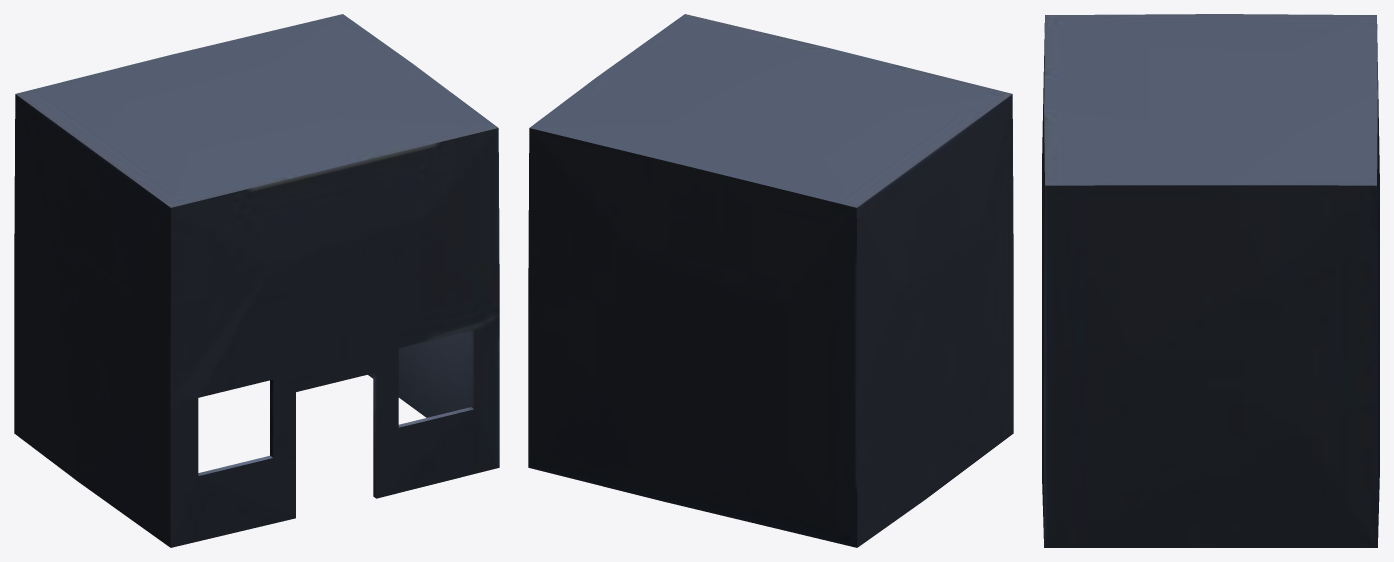
Rendered from building3.dae.
3 views of the same model, side by side, from view 1: azimuth 30°, elevation 25°; view 2: azimuth 150°, elevation 25°; view 3: azimuth 270°, elevation 25° (orthographic). The views are drawn at different scales.
Parts seen in each view (by area): view 1: Cube; view 2: Cube; view 3: Cube.
Boxes of the visible parts, <box> form: Cube: <box>14,14,499,547</box>; Cube: <box>528,14,1013,547</box>; Cube: <box>1042,14,1379,547</box>.
Bounding box in the file's own units: 2.07 × 1.71 × 2.03.
1 material, 1 textured.
